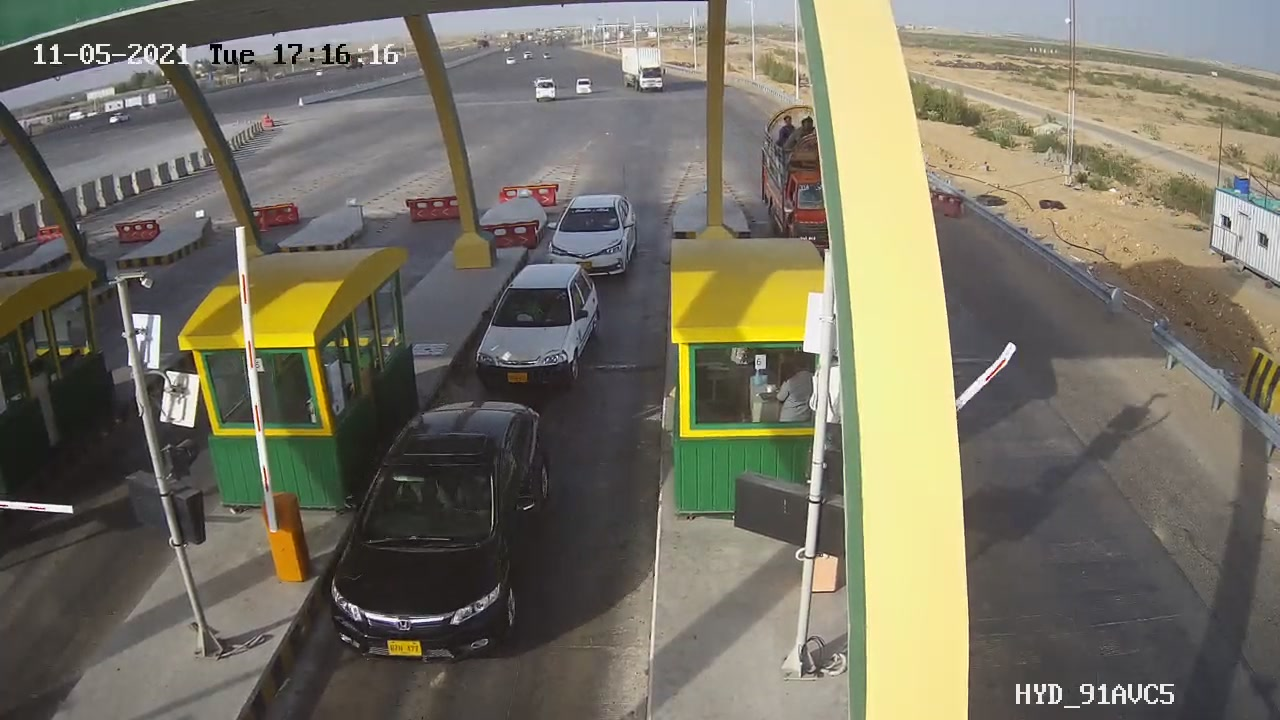F1: (460, 253, 618, 403), (531, 185, 650, 287)
